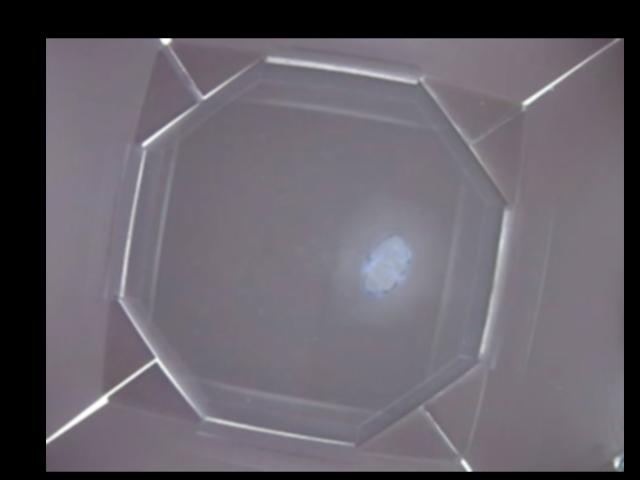Pebble: (366, 232, 410, 293)
